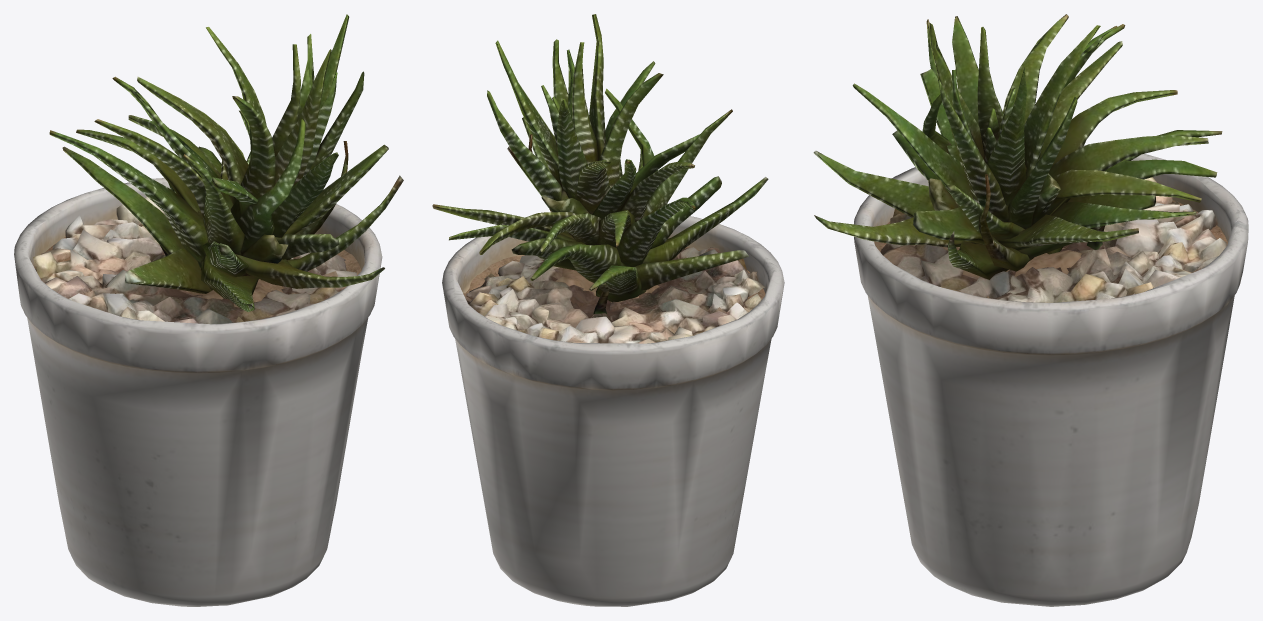
File: potted_plant_04.glb
3 renders of one model, left to right at view 1: azimuth 30°, elevation 25°; view 2: azimuth 150°, elevation 25°; view 3: azimuth 270°, elevation 25°, orthographic. The views are drawn at different scales.
Visible parts, largest first — view 1: potted_plant_04_pot, potted_plant_04_plant, potted_plant_04_ground, potted_plant_04_dirt; view 2: potted_plant_04_pot, potted_plant_04_plant, potted_plant_04_ground, potted_plant_04_dirt; view 3: potted_plant_04_pot, potted_plant_04_plant, potted_plant_04_ground, potted_plant_04_dirt.
Boxes of the visible parts, bbox=[...] form: potted_plant_04_pot: bbox=[14, 178, 382, 606]; potted_plant_04_plant: bbox=[49, 14, 403, 311]; potted_plant_04_ground: bbox=[33, 196, 356, 324]; potted_plant_04_dirt: bbox=[34, 236, 361, 307]; potted_plant_04_pot: bbox=[442, 216, 784, 606]; potted_plant_04_plant: bbox=[432, 14, 768, 314]; potted_plant_04_ground: bbox=[464, 247, 765, 343]; potted_plant_04_dirt: bbox=[463, 247, 765, 306]; potted_plant_04_pot: bbox=[854, 145, 1248, 606]; potted_plant_04_plant: bbox=[813, 14, 1222, 279]; potted_plant_04_ground: bbox=[880, 177, 1226, 302]; potted_plant_04_dirt: bbox=[874, 200, 1227, 298].
Bounding box in the file's own units: 0.1677 × 0.2671 × 0.184.
1 material, 1 textured.
